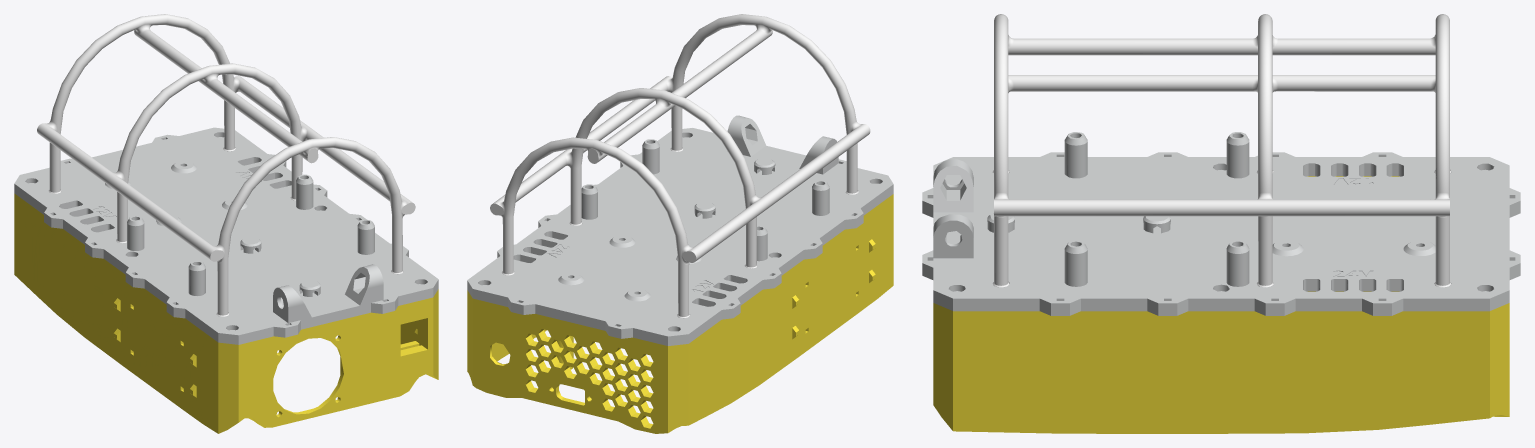
File: extension_dock.glb
The picture shows the model from 3 angles, left to right: view 1: azimuth 30°, elevation 25°; view 2: azimuth 150°, elevation 25°; view 3: azimuth 270°, elevation 25°; orthographic projection. The views are drawn at different scales.
Parts seen in each view (by area): view 1: Extension Dock Hardware Mounting Plate, Extension Dock DC-DC Housing, Extension Dock Roll Cage; view 2: Extension Dock Hardware Mounting Plate, Extension Dock DC-DC Housing, Extension Dock Roll Cage; view 3: Extension Dock Hardware Mounting Plate, Extension Dock DC-DC Housing, Extension Dock Roll Cage.
Boxes of the visible parts, bbox=[...] form: Extension Dock Hardware Mounting Plate: bbox=[14, 127, 438, 344]; Extension Dock DC-DC Housing: bbox=[14, 193, 438, 433]; Extension Dock Roll Cage: bbox=[37, 14, 415, 316]; Extension Dock Hardware Mounting Plate: bbox=[467, 115, 893, 345]; Extension Dock DC-DC Housing: bbox=[467, 194, 893, 433]; Extension Dock Roll Cage: bbox=[490, 14, 870, 318]; Extension Dock Hardware Mounting Plate: bbox=[922, 132, 1520, 315]; Extension Dock DC-DC Housing: bbox=[933, 176, 1509, 433]; Extension Dock Roll Cage: bbox=[993, 14, 1450, 287].
Bounding box in the file's own units: 0.128 × 0.1332 × 0.2146.
